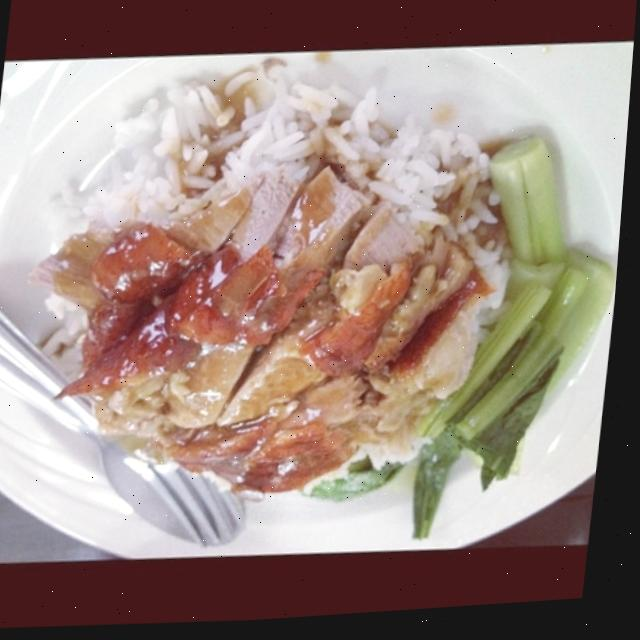米饭主食: (9, 52, 618, 563)
